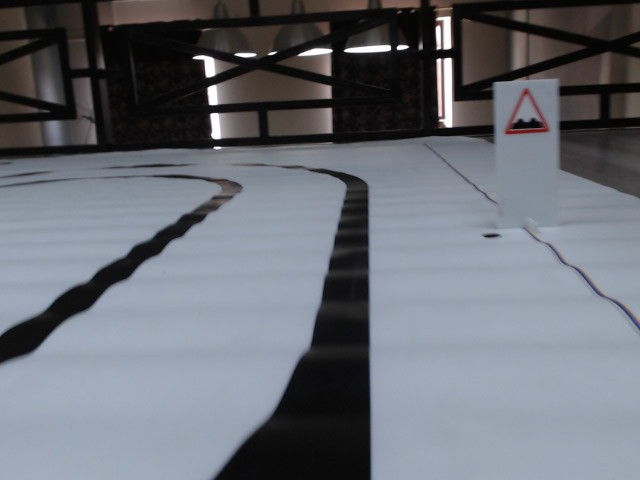Nerov: (502, 87, 553, 139)
